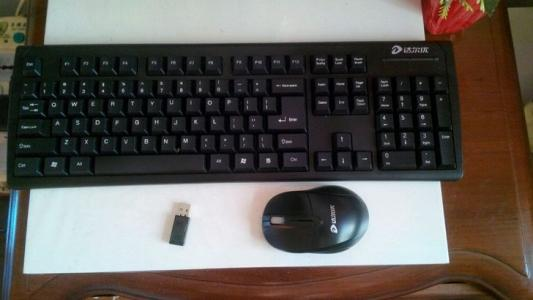keyboard: (6, 43, 462, 183)
mouse: (263, 186, 369, 254)
